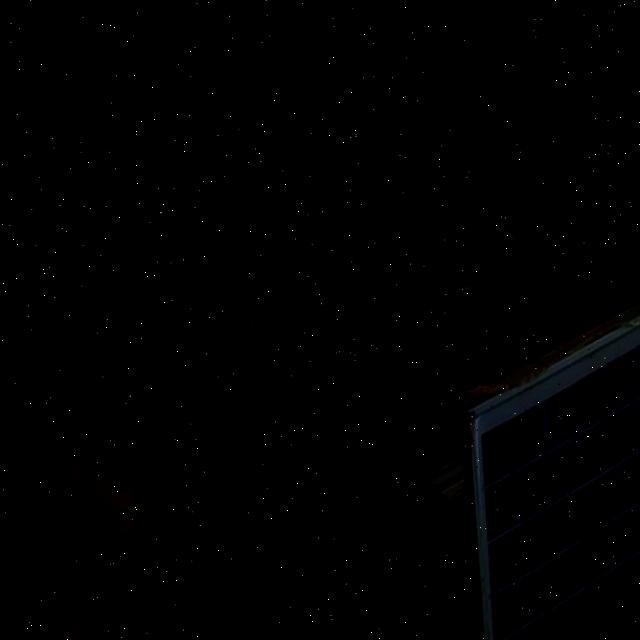Normal Solar Panel: (444, 282, 640, 640)
